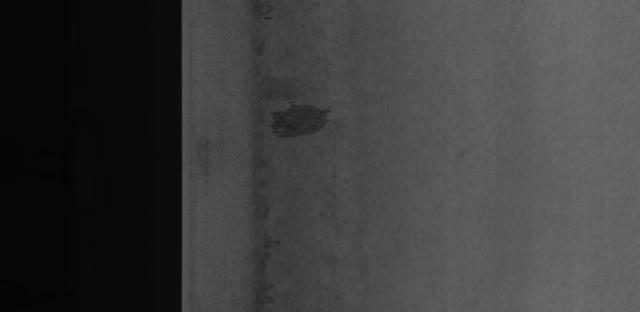oil_spot: (240, 151, 282, 310), (266, 97, 332, 144), (240, 2, 275, 88)
